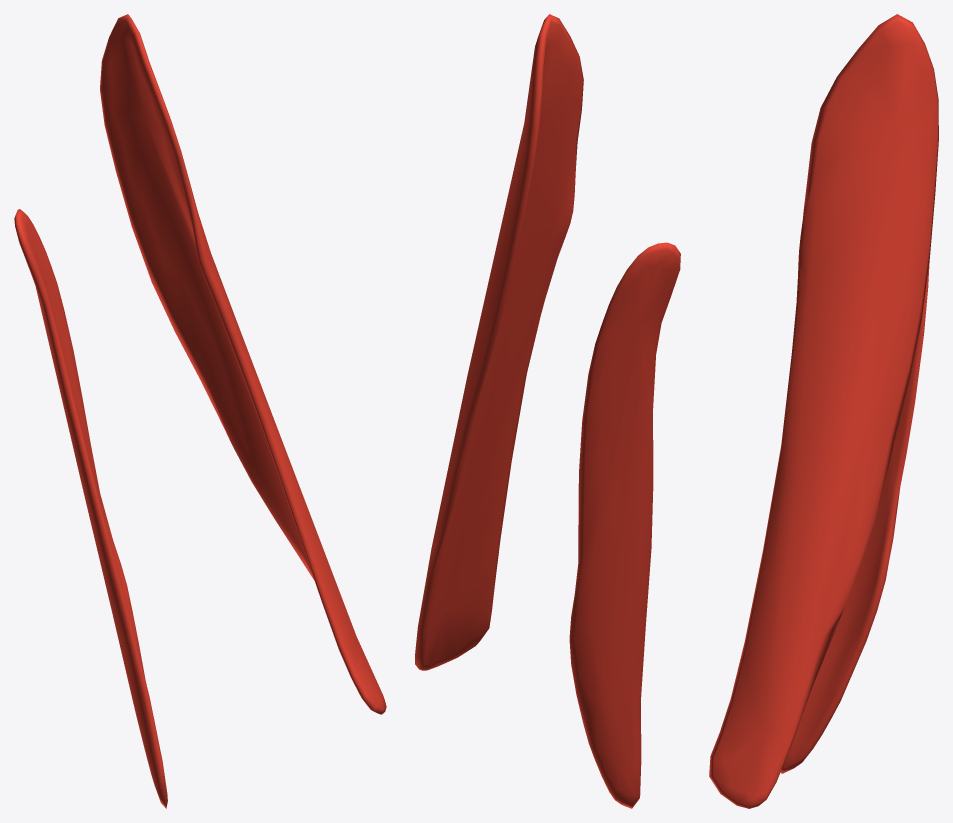
File: Dorsal_interossei_2nd_metacarpal_left.glb
The picture shows the model from 3 angles, left to right: view 1: azimuth 30°, elevation 25°; view 2: azimuth 150°, elevation 25°; view 3: azimuth 270°, elevation 25°; orthographic projection. The views are drawn at different scales.
Parts seen in each view (by area): view 1: Dorsal_interosseus_muscles_of_2d_metacarpal_bone.l_Generated; view 2: Dorsal_interosseus_muscles_of_2d_metacarpal_bone.l_Generated; view 3: Dorsal_interosseus_muscles_of_2d_metacarpal_bone.l_Generated.
Boxes of the visible parts, x1,y1,x2,y2 form: Dorsal_interosseus_muscles_of_2d_metacarpal_bone.l_Generated: [14, 14, 386, 808]; Dorsal_interosseus_muscles_of_2d_metacarpal_bone.l_Generated: [415, 14, 680, 808]; Dorsal_interosseus_muscles_of_2d_metacarpal_bone.l_Generated: [709, 14, 938, 808].
Size of the model in its own units: 0.016 by 0.0383 by 0.0104.
